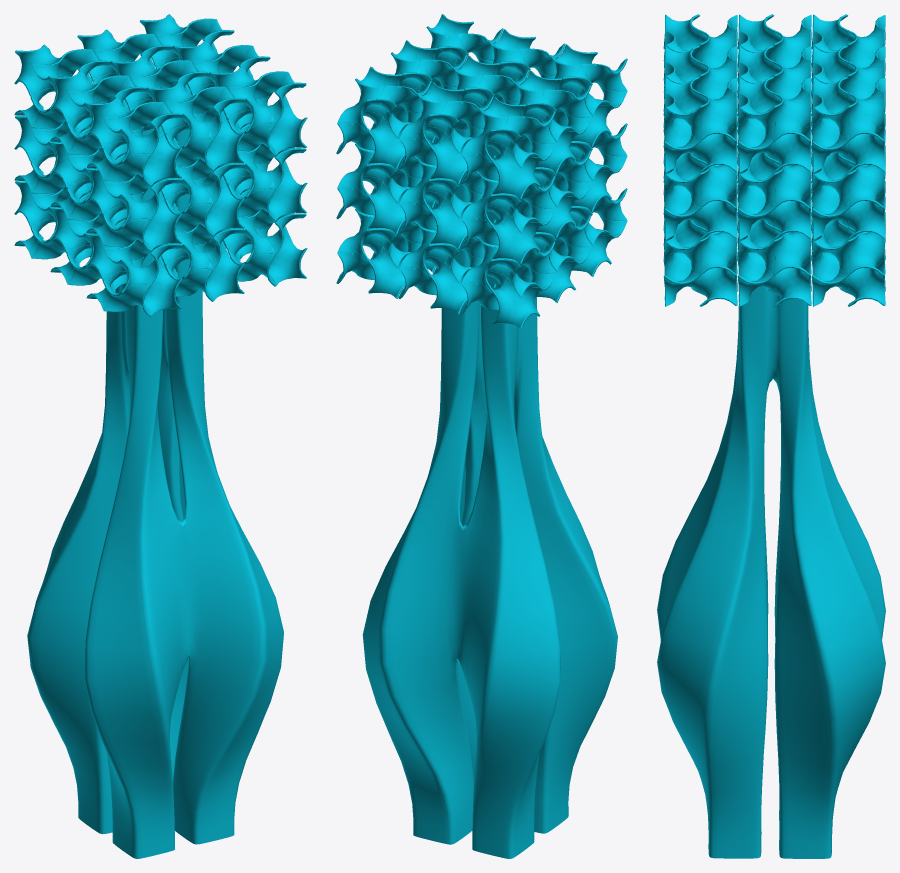
File: asset.glb
3 views of the same model, side by side, from view 1: azimuth 30°, elevation 25°; view 2: azimuth 150°, elevation 25°; view 3: azimuth 270°, elevation 25° (orthographic). The views are drawn at different scales.
Visible parts, largest first — view 1: tow, 123; view 2: tow, 123; view 3: tow, 123.
Boxes of the visible parts, left/top/right/bottom form: tow: left=27, top=103, right=283, bottom=858; 123: left=14, top=14, right=307, bottom=316; tow: left=362, top=127, right=617, bottom=858; 123: left=336, top=14, right=627, bottom=329; tow: left=657, top=164, right=885, bottom=858; 123: left=663, top=14, right=885, bottom=306.
Bounding box in the file's own units: 14.32 × 52 × 13.89.
